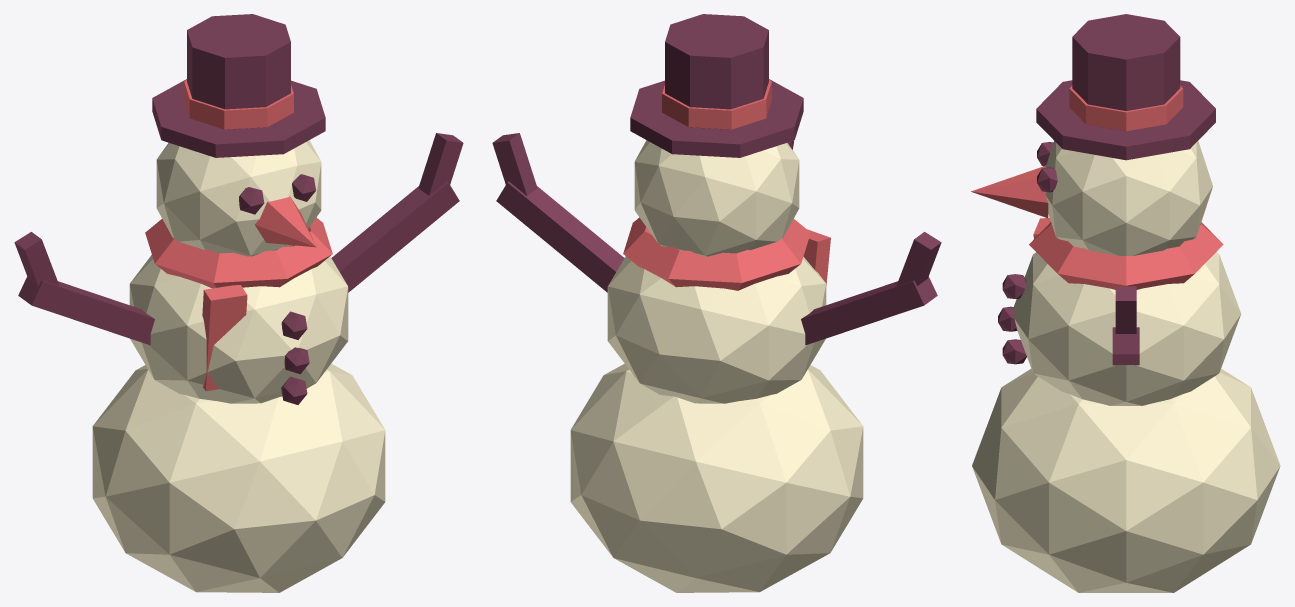
Rendered from snowman.glb.
3 views of the same model, side by side, from view 1: azimuth 30°, elevation 25°; view 2: azimuth 150°, elevation 25°; view 3: azimuth 270°, elevation 25° (orthographic).
Parts seen in each view (by area): view 1: Bottom, Middle, Head, Crown, Brim, Scarf, ArmL, ArmR, Band, Tail, Nose, TwigL (+1 smaller); view 2: Bottom, Middle, Head, Crown, Scarf, Brim, ArmL, ArmR, Band, TwigL, TwigR, Tail; view 3: Bottom, Middle, Head, Crown, Brim, Scarf, Band, Nose, TwigL, ArmL, Btn1, Btn3 (+1 smaller).
Part boxes in pixels (box(x1,y1,x2,y2)): Bottom: box(92, 363, 385, 592); Middle: box(129, 255, 348, 403); Head: box(156, 140, 321, 256); Crown: box(187, 14, 290, 129); Brim: box(152, 79, 325, 157); Scarf: box(145, 217, 332, 288); ArmL: box(331, 181, 459, 292); ArmR: box(18, 276, 154, 345); Band: box(184, 80, 293, 129); Tail: box(202, 285, 247, 391); Nose: box(254, 196, 316, 247); TwigL: box(418, 133, 463, 195); Bottom: box(570, 363, 863, 592); Middle: box(607, 256, 826, 403); Head: box(634, 140, 799, 256); Crown: box(665, 14, 768, 129); Scarf: box(623, 217, 810, 290); Brim: box(630, 79, 803, 157); ArmL: box(496, 181, 624, 292); ArmR: box(801, 276, 937, 345); Band: box(662, 80, 771, 129); TwigL: box(492, 133, 537, 195); TwigR: box(896, 232, 941, 285); Tail: box(803, 229, 830, 285); Bottom: box(972, 368, 1280, 592); Middle: box(1013, 252, 1241, 405); Head: box(1045, 141, 1212, 255); Crown: box(1072, 14, 1180, 131); Brim: box(1036, 80, 1215, 160); Scarf: box(1029, 222, 1223, 289); Band: box(1069, 85, 1183, 131); Nose: box(971, 165, 1048, 218); TwigL: box(1115, 286, 1136, 333); ArmL: box(1112, 327, 1139, 365); Btn1: box(1002, 274, 1026, 298); Btn3: box(1002, 339, 1026, 364).
Size of the model in its own units: 1.69 by 2.01 by 1.03.
